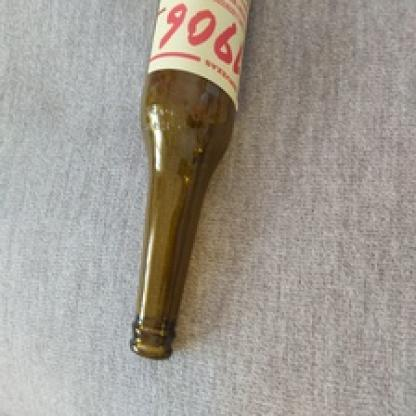Can: (129, 3, 254, 354)
